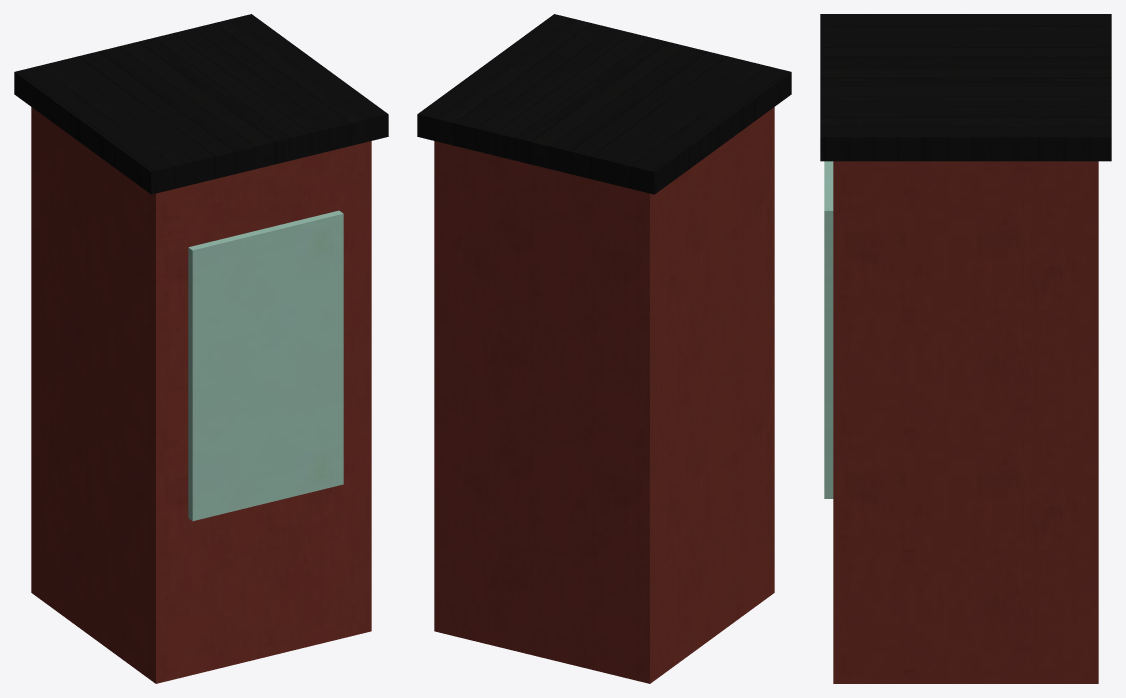
The model's file is phone_booth_01.glb.
3 renders of one model, left to right at view 1: azimuth 30°, elevation 25°; view 2: azimuth 150°, elevation 25°; view 3: azimuth 270°, elevation 25°, orthographic. The views are drawn at different scales.
Parts seen in each view (by area): view 1: phone_booth_01; view 2: phone_booth_01; view 3: phone_booth_01.
Boxes of the visible parts, x1,y1,x2,y2 form: phone_booth_01: (14, 14, 388, 683); phone_booth_01: (417, 14, 791, 683); phone_booth_01: (820, 14, 1111, 683).
Size of the model in its own units: 1.1 by 2.3 by 1.1.
3 materials, 3 textured.
